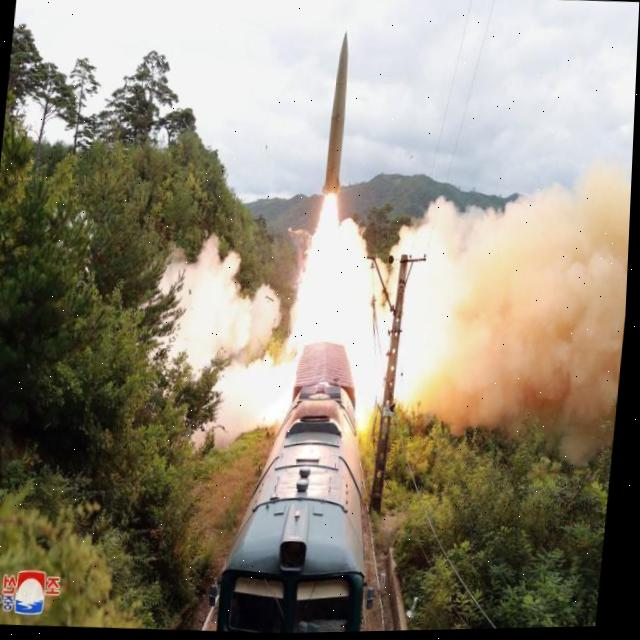missile: (319, 29, 360, 207)
